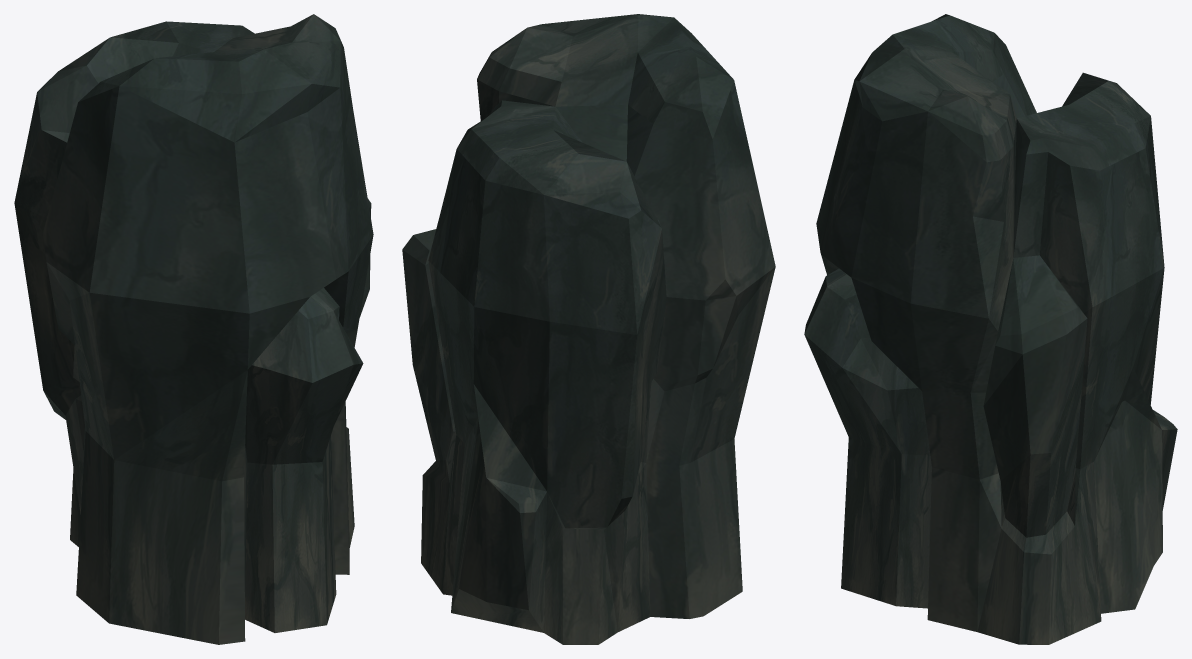
Rendered from ETC0610067.fbx.
The picture shows the model from 3 angles, left to right: view 1: azimuth 30°, elevation 25°; view 2: azimuth 150°, elevation 25°; view 3: azimuth 270°, elevation 25°; orthographic projection. The views are drawn at different scales.
Visible parts, largest first — view 1: smETC0610067; view 2: smETC0610067; view 3: smETC0610067.
Part boxes in pixels (left/top/right/bottom): smETC0610067: left=14, top=14, right=373, bottom=644; smETC0610067: left=402, top=14, right=775, bottom=644; smETC0610067: left=804, top=14, right=1177, bottom=644.
Bounding box in the file's own units: 207 × 334 × 215.
1 material, 1 textured.
